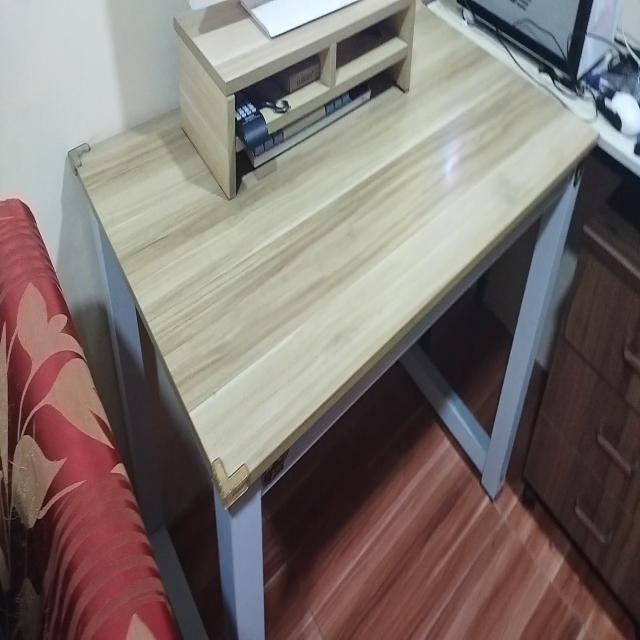table: (66, 0, 598, 640)
